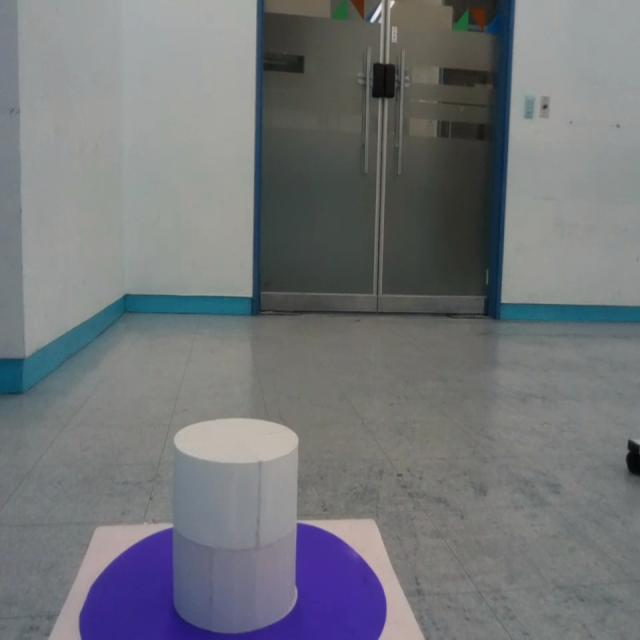cylinder: (171, 417, 300, 631)
